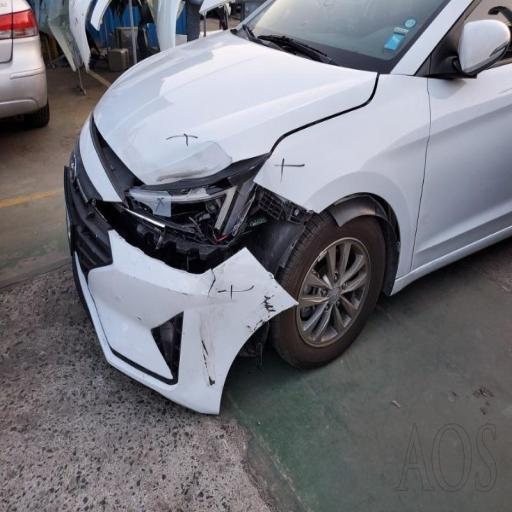broken: (145, 181, 330, 373)
dent: (144, 118, 235, 190)
